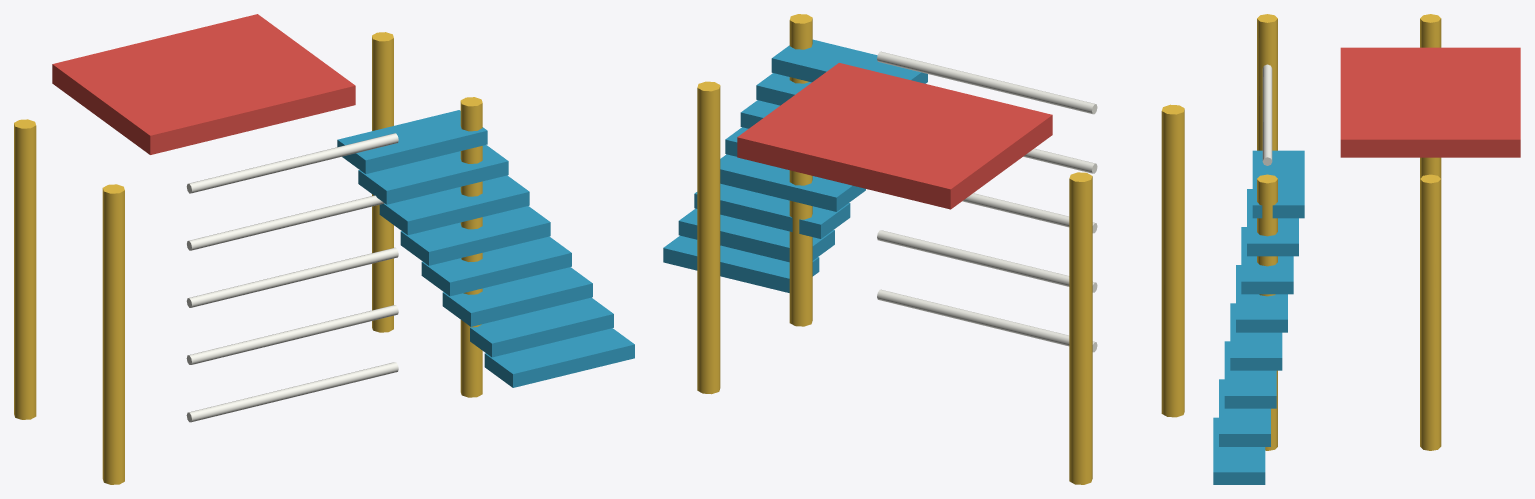
The picture shows the model from 3 angles, left to right: view 1: azimuth 30°, elevation 25°; view 2: azimuth 150°, elevation 25°; view 3: azimuth 270°, elevation 25°; orthographic projection. The views are drawn at different scales.
Parts seen in each view (by area): view 1: slide-run (×8), beam (×9), platform; view 2: beam (×9), platform, slide-run (×7); view 3: platform, slide-run (×8), beam (×5).
Boxes of the visible parts, bbox=[...] form: slide-run (×8): bbox=[337, 110, 634, 387]; beam (×9): bbox=[14, 32, 482, 484]; platform: bbox=[52, 14, 355, 154]; beam (×9): bbox=[697, 14, 1184, 484]; platform: bbox=[737, 63, 1052, 209]; slide-run (×7): bbox=[663, 39, 927, 292]; platform: bbox=[1340, 47, 1520, 157]; slide-run (×8): bbox=[1213, 150, 1304, 484]; beam (×5): bbox=[1257, 14, 1441, 450].
Bounding box in the file's own units: 3.79 × 2.14 × 2.18.
